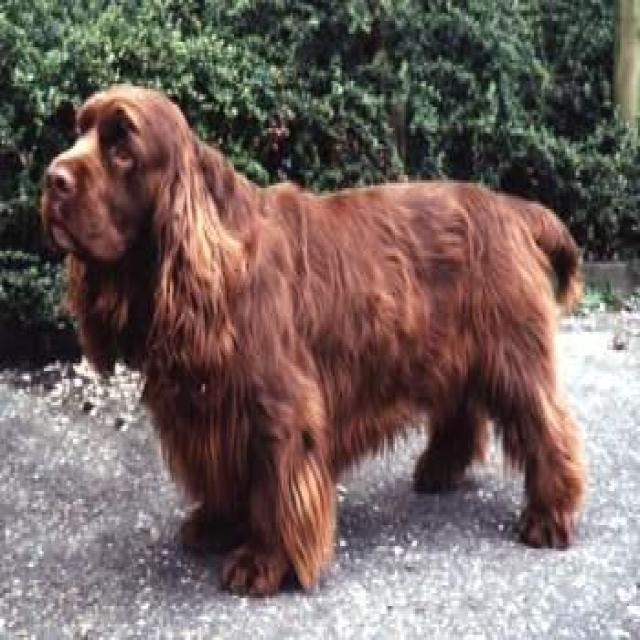dog: (36, 44, 604, 607)
